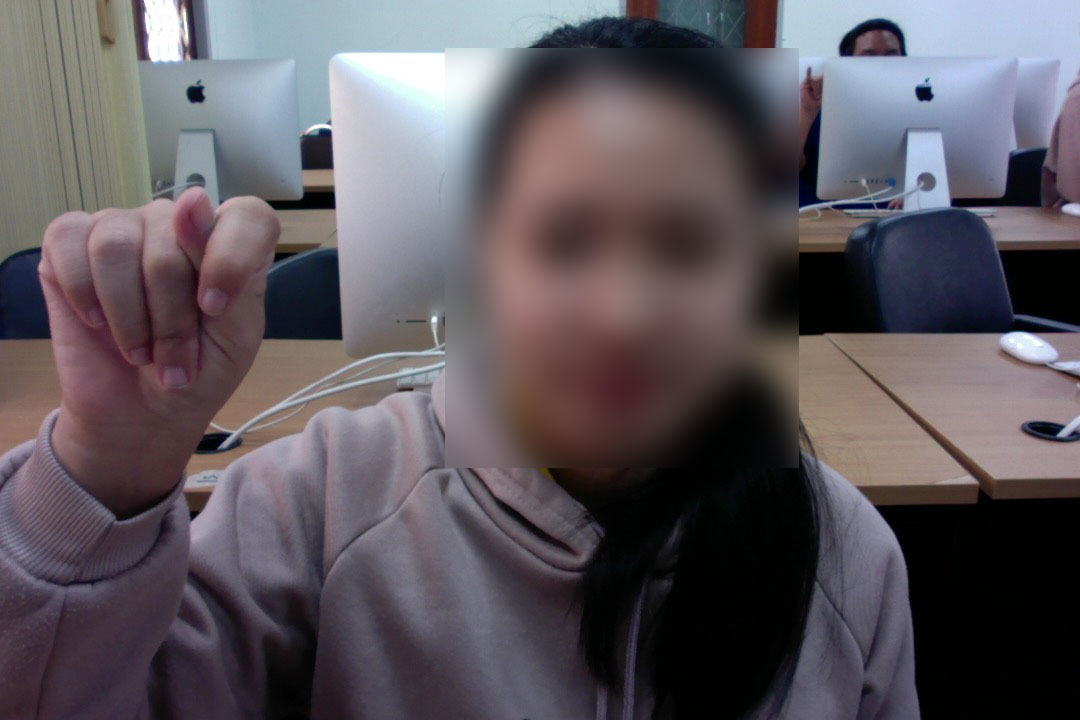tor: (31, 184, 288, 458)
